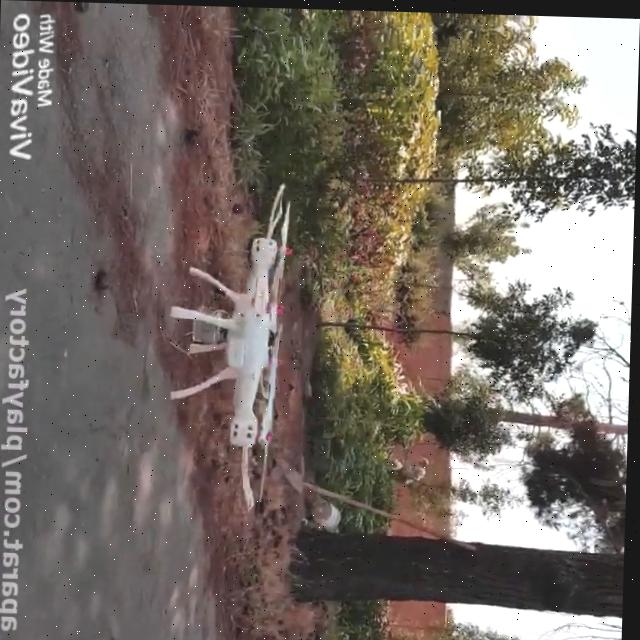drone: (167, 180, 295, 513)
